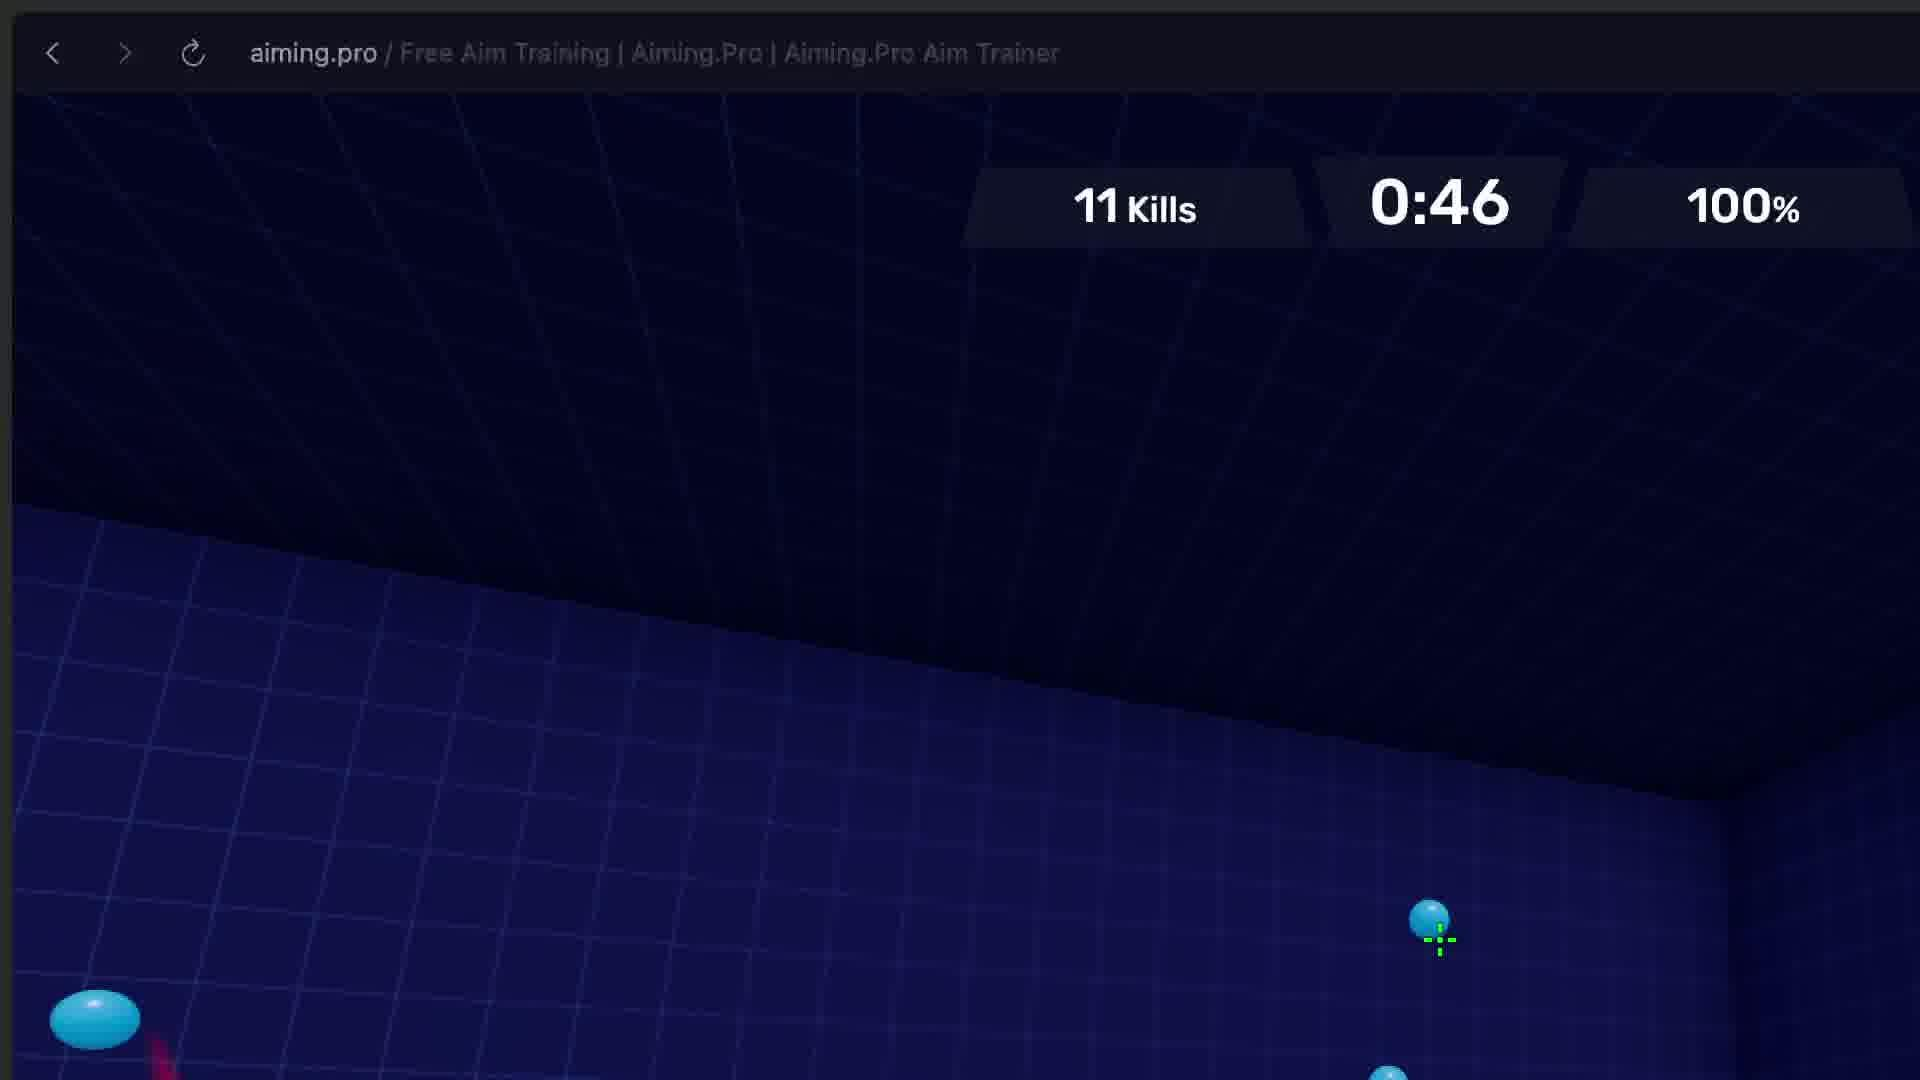target: (49, 990, 141, 1050), (1408, 898, 1457, 957), (1367, 1064, 1408, 1079)
